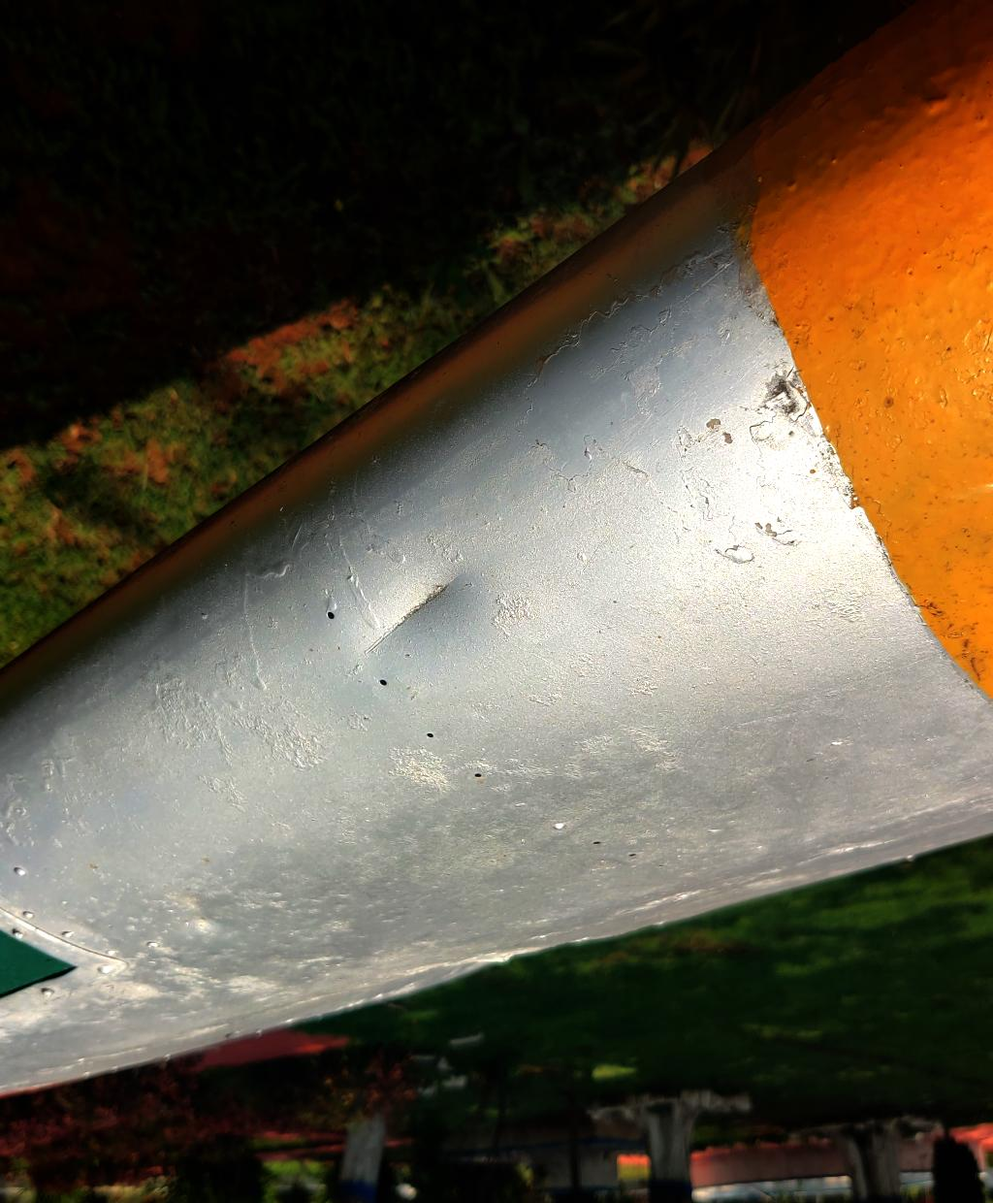dent: (315, 536, 499, 736)
